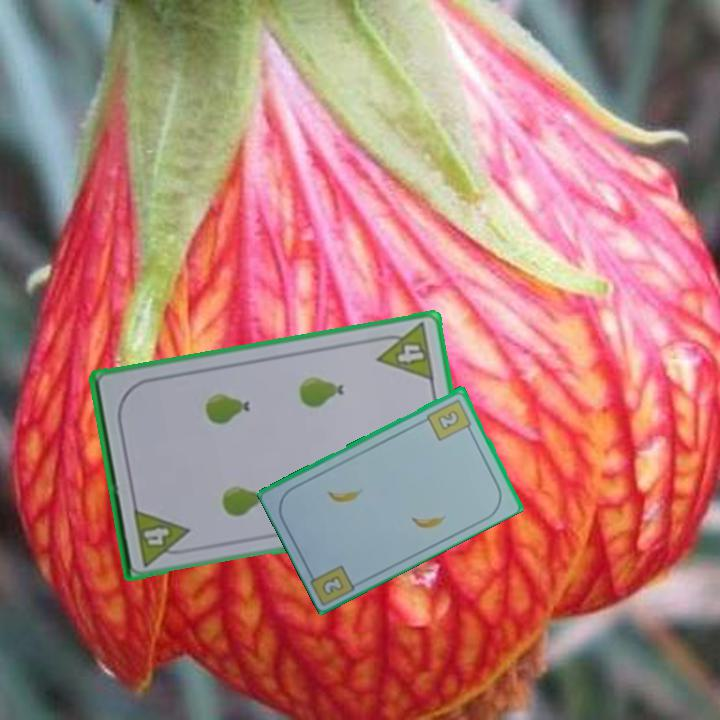2b: (424, 395, 475, 443), (318, 572, 347, 598)
4p: (371, 319, 437, 384), (130, 504, 194, 569)
